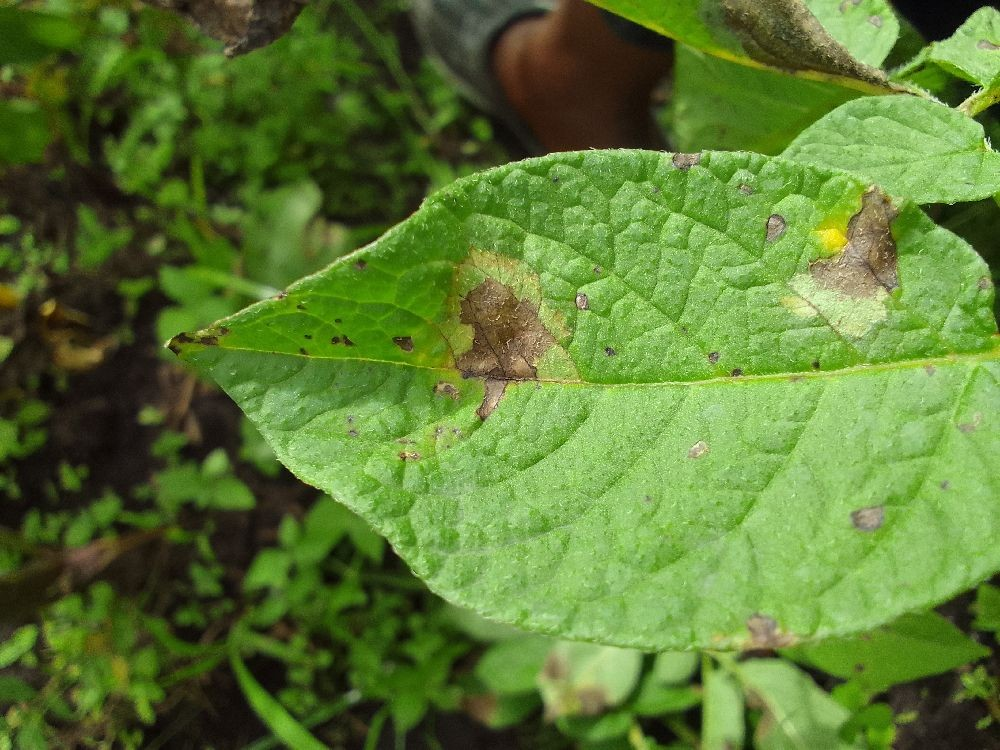late_blight: (0, 0, 402, 750), (678, 0, 928, 118), (419, 261, 571, 435), (850, 574, 1000, 750)
